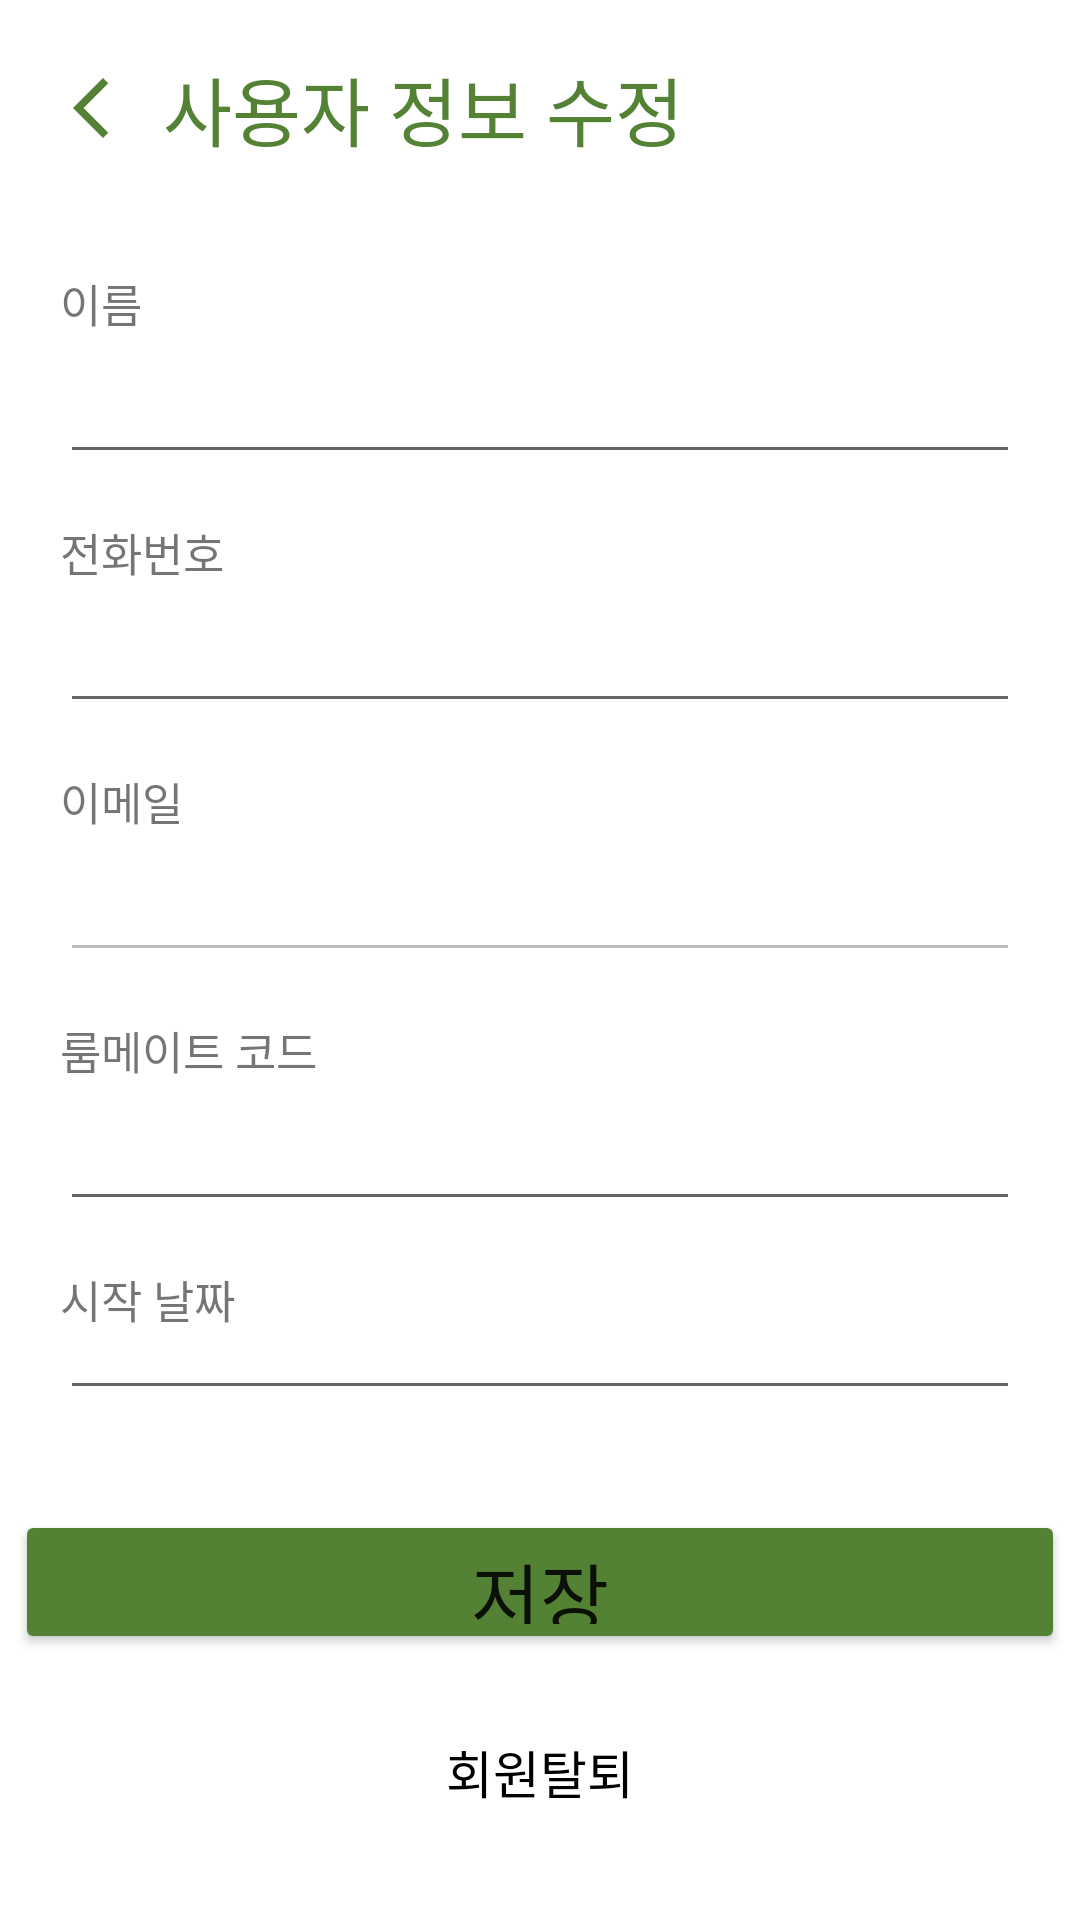

Icons on this 1080px×1920px Android screen, each with the point to tap as (x,y):
back: (90,108)
